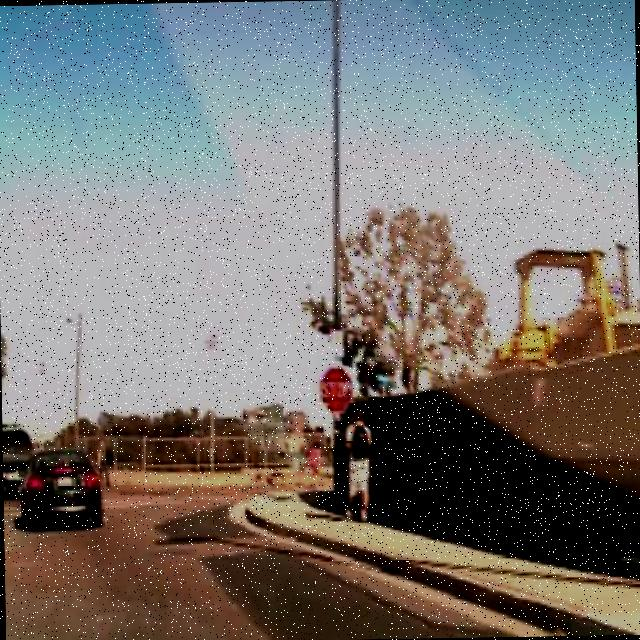Stop: (316, 365, 352, 418)
